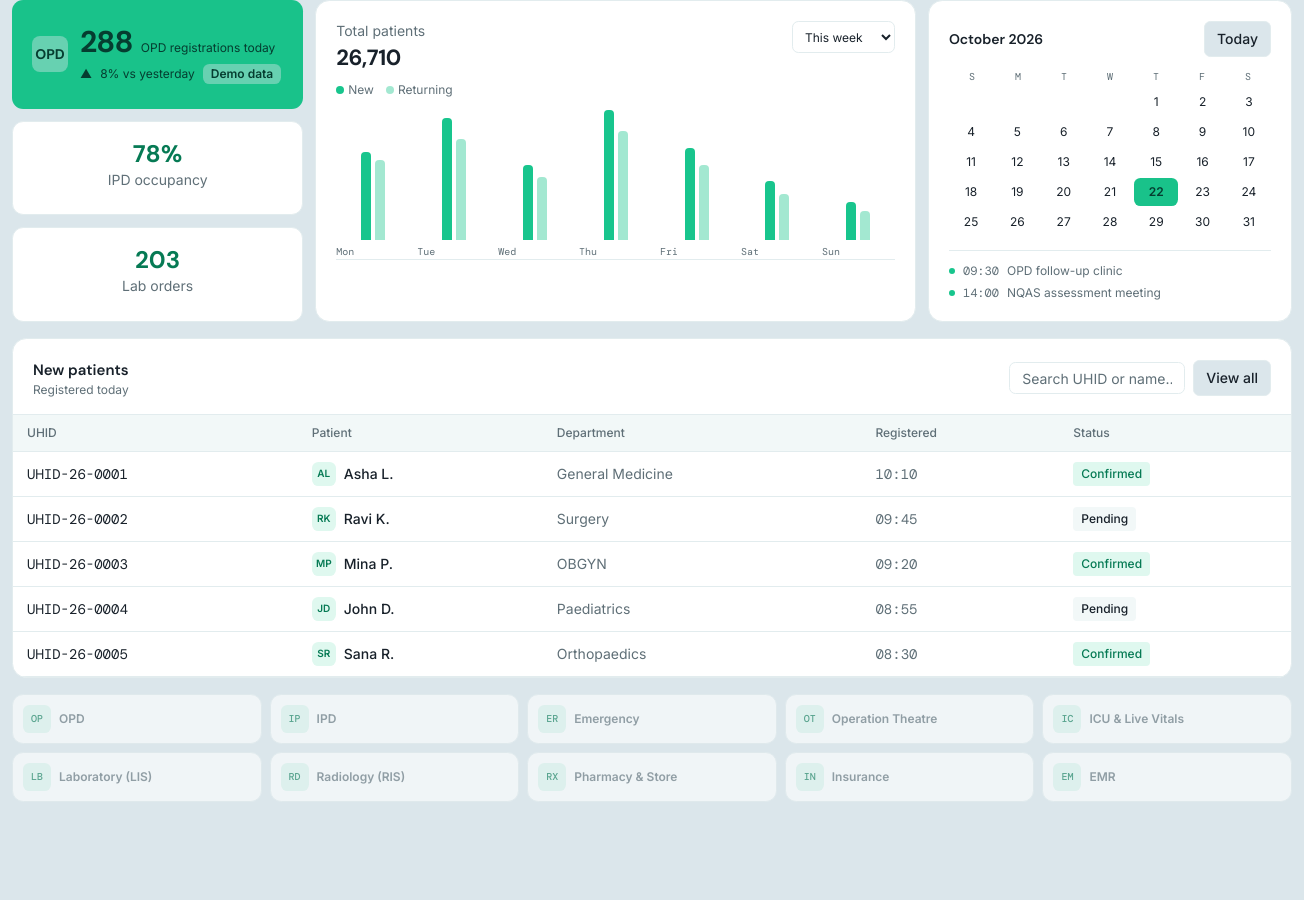
Scenario: DashboardView › search filters the table rows
The image size is (1304, 900).
In the field named "search patients": (1097, 378) [1009,362,1185,394], type "UHID-26-0001"
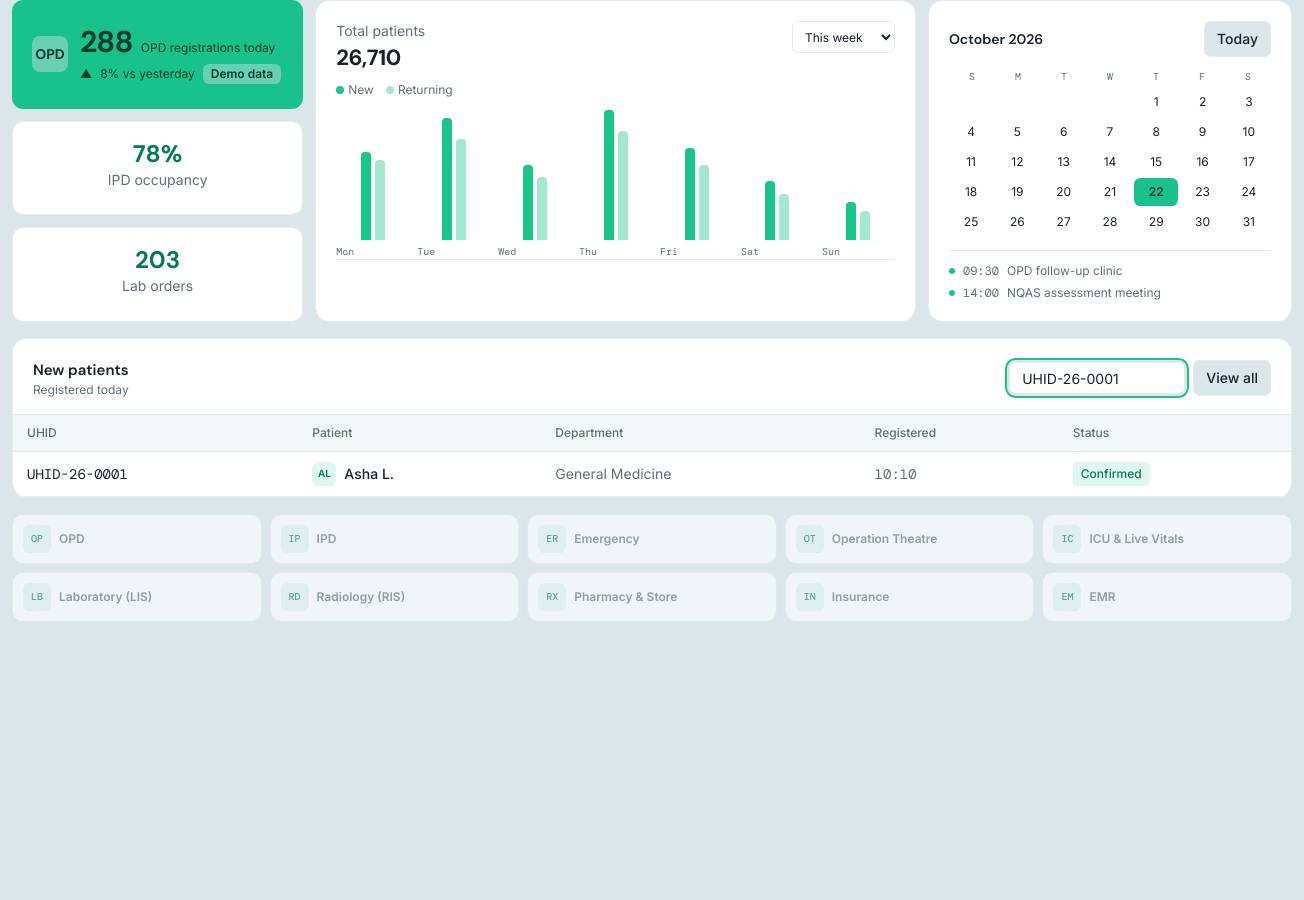
Expected: the text "Ravi K." is gone
Expected: the text "Mina P." is gone
Expected: the text "John D." is gone
